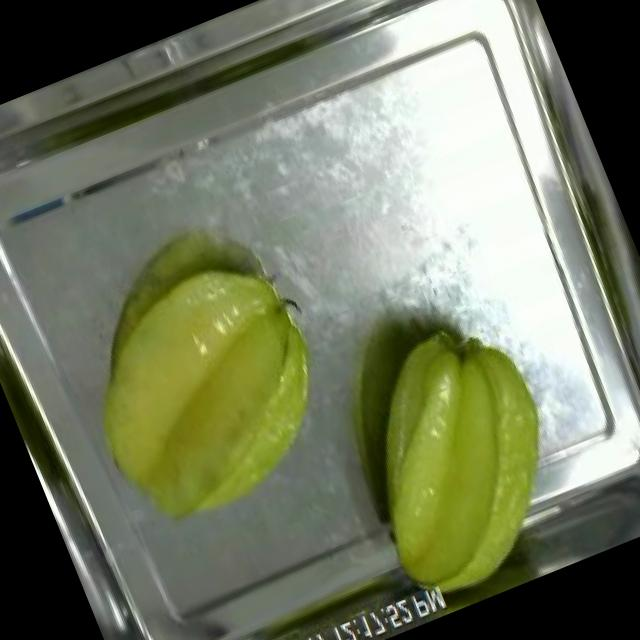fruit: (39, 224, 369, 558), (307, 291, 601, 624)
